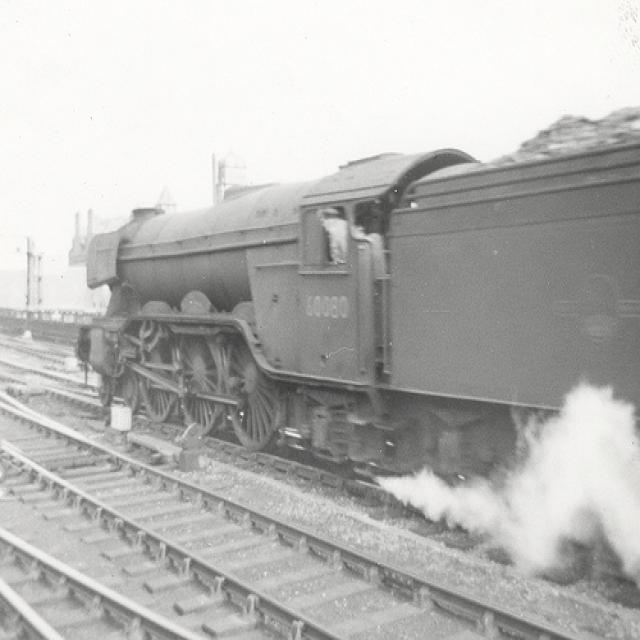train: (77, 109, 639, 550)
